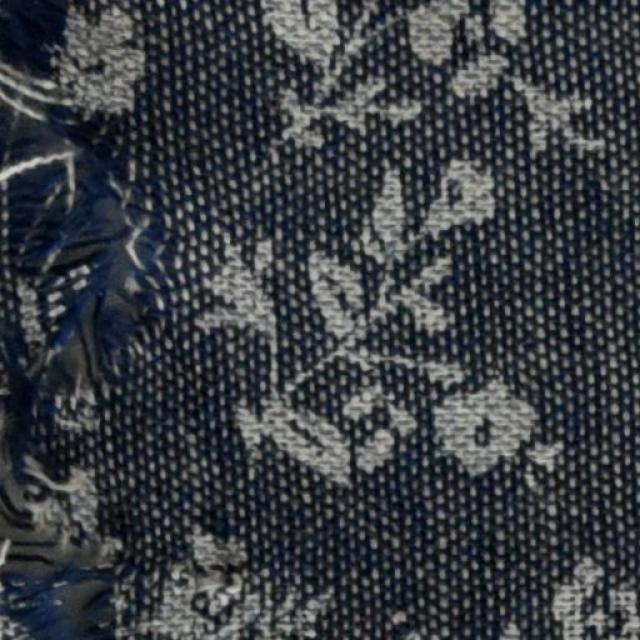Hole: (47, 200, 132, 380), (8, 512, 93, 600)
Snag: (0, 148, 95, 512), (0, 556, 133, 640)
